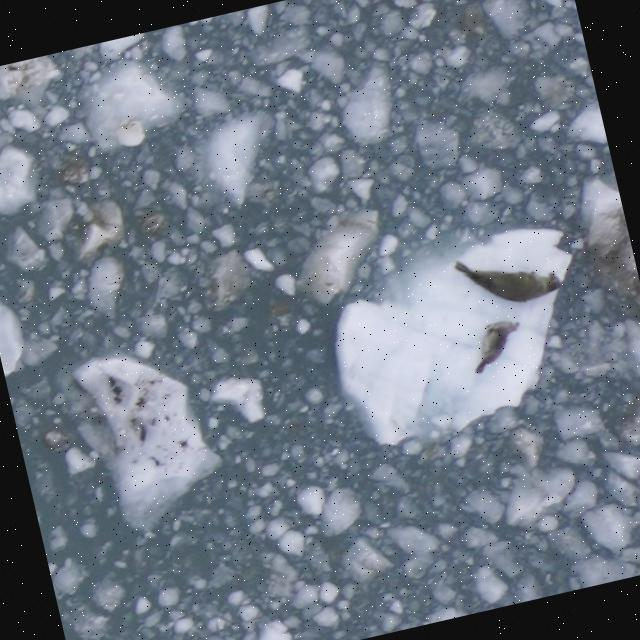seal: (446, 232, 568, 321), (460, 313, 532, 377)
